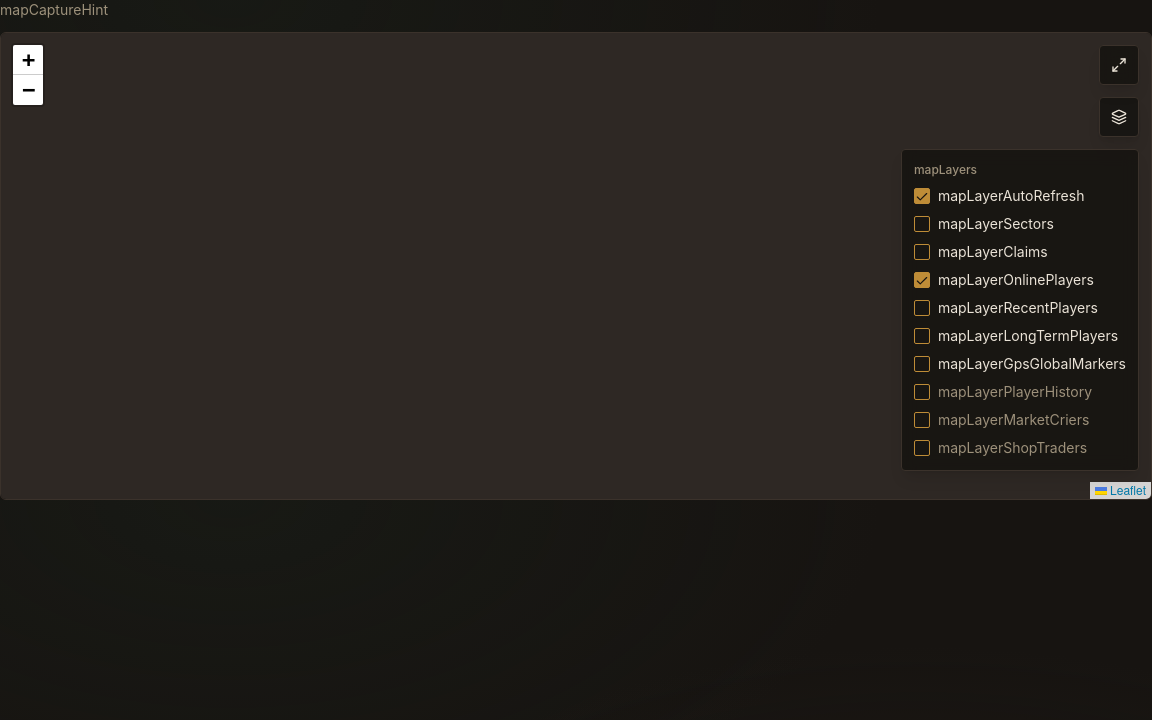
Scenario: AdminMapTab › keeps map controls on the map and resizes when entering expanded mode
The image size is (1152, 720).
Click the button named "mapExpandWindow": (1119, 65) x1=1099 y1=45 x2=1139 y2=85
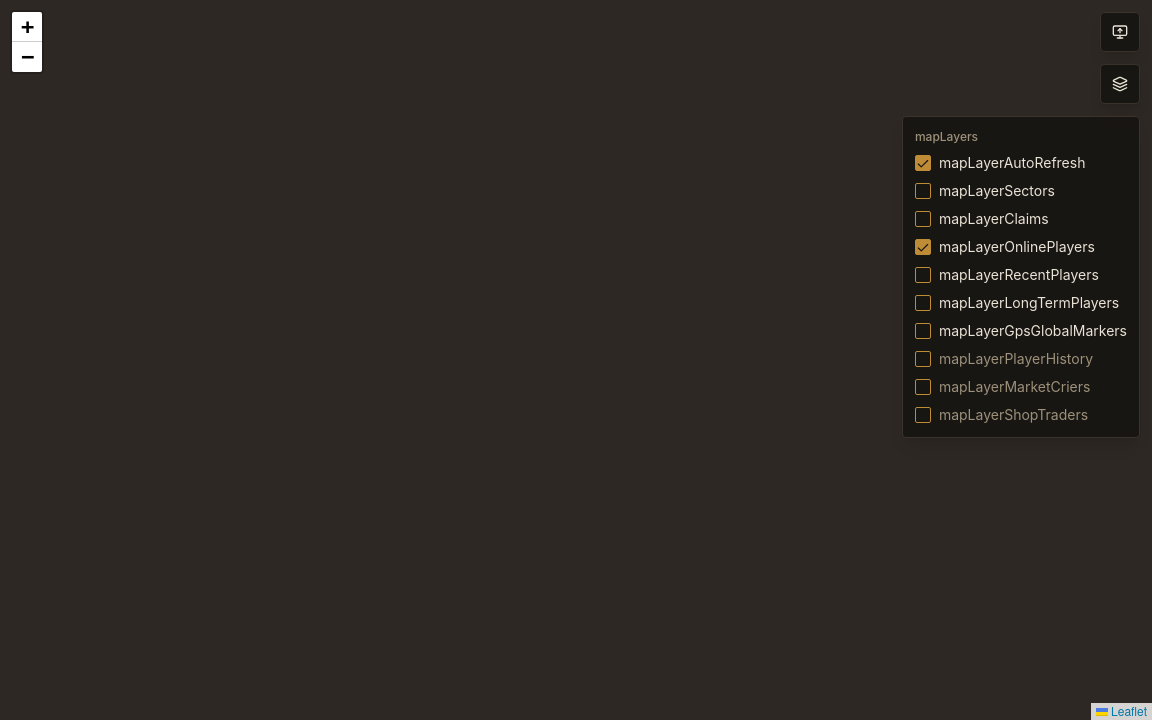
expect the text "mapLayers" is shown: met, box x1=915 y1=129 x2=978 y2=144
expect the button named "mapBrowserFullscreen" is shown: met, box x1=1100 y1=12 x2=1140 y2=52
